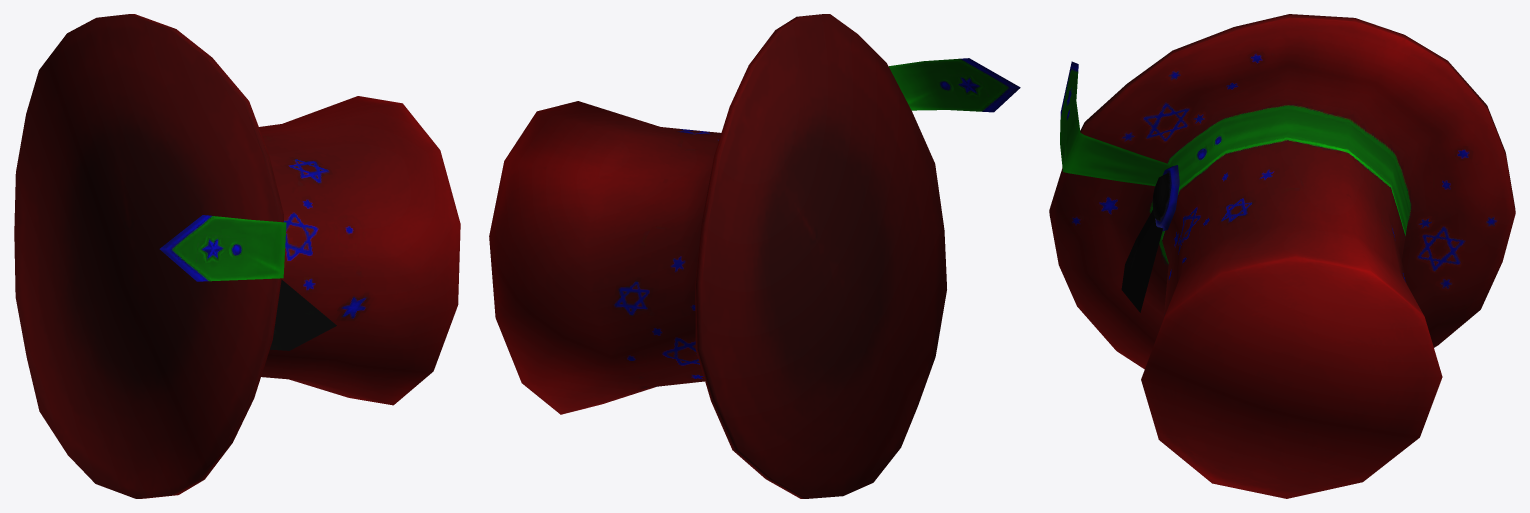
The picture shows the model from 3 angles, left to right: view 1: azimuth 30°, elevation 25°; view 2: azimuth 150°, elevation 25°; view 3: azimuth 270°, elevation 25°; orthographic projection. The views are drawn at different scales.
Parts seen in each view (by area): view 1: M1125; view 2: M1125; view 3: M1125.
Part boxes in pixels (<box>): M1125: <box>14,14,460,498</box>; M1125: <box>489,14,1020,498</box>; M1125: <box>1049,14,1515,498</box>.
Bounding box in the file's own units: 0.8621 × 0.9885 × 0.9956.
